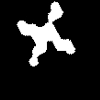single_crochet: (17, 2, 74, 65)
